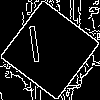I: (25, 25, 45, 72)
